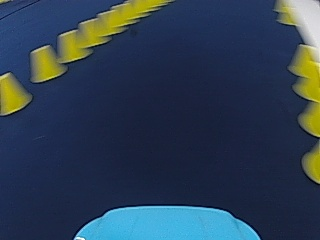cone: (29, 44, 64, 82), (0, 71, 31, 113), (287, 44, 318, 84), (293, 56, 319, 101), (57, 28, 87, 62), (298, 98, 318, 136), (303, 141, 318, 183)
